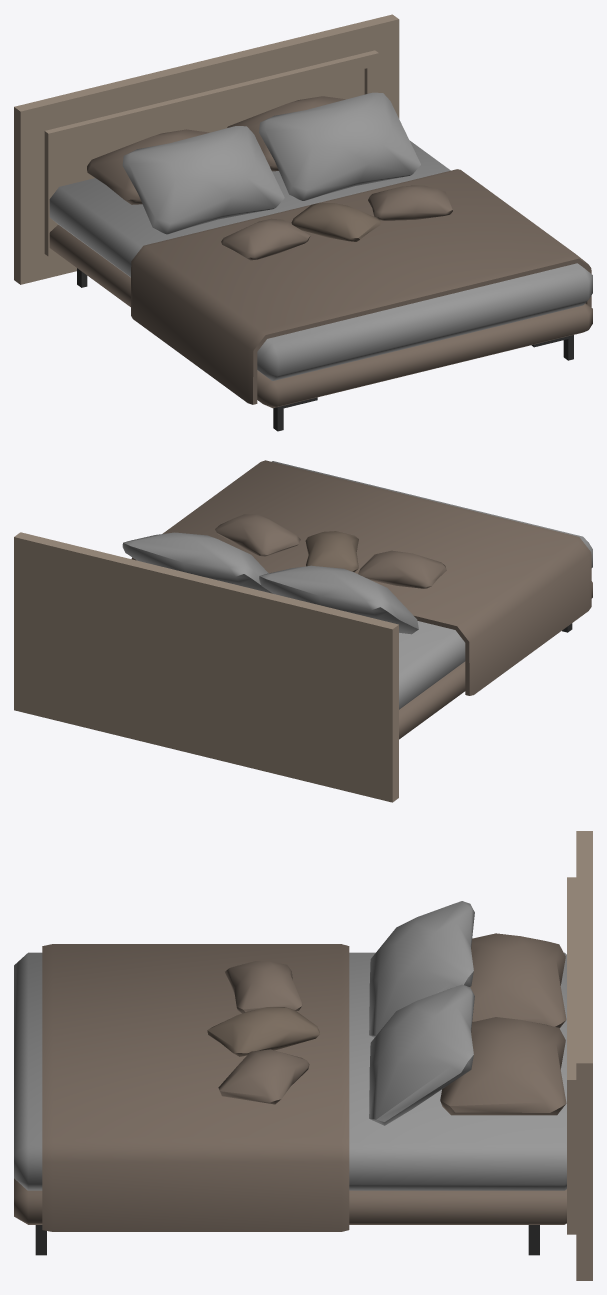
File: bed014.glb
3 renders of one model, top to bottom at view 1: azimuth 30°, elevation 25°; view 2: azimuth 150°, elevation 25°; view 3: azimuth 270°, elevation 25°, orthographic. The views are drawn at different scales.
Visible parts, largest first — view 1: bed.014; view 2: bed.014; view 3: bed.014.
Part boxes in pixels (box(x1,y1,x2,y2)): bed.014: box(14, 14, 592, 431); bed.014: box(14, 460, 592, 802); bed.014: box(14, 831, 592, 1280).
Size of the model in its own units: 2.06 by 0.9023 by 2.17.
Materials: 1 (1 with a texture image).
